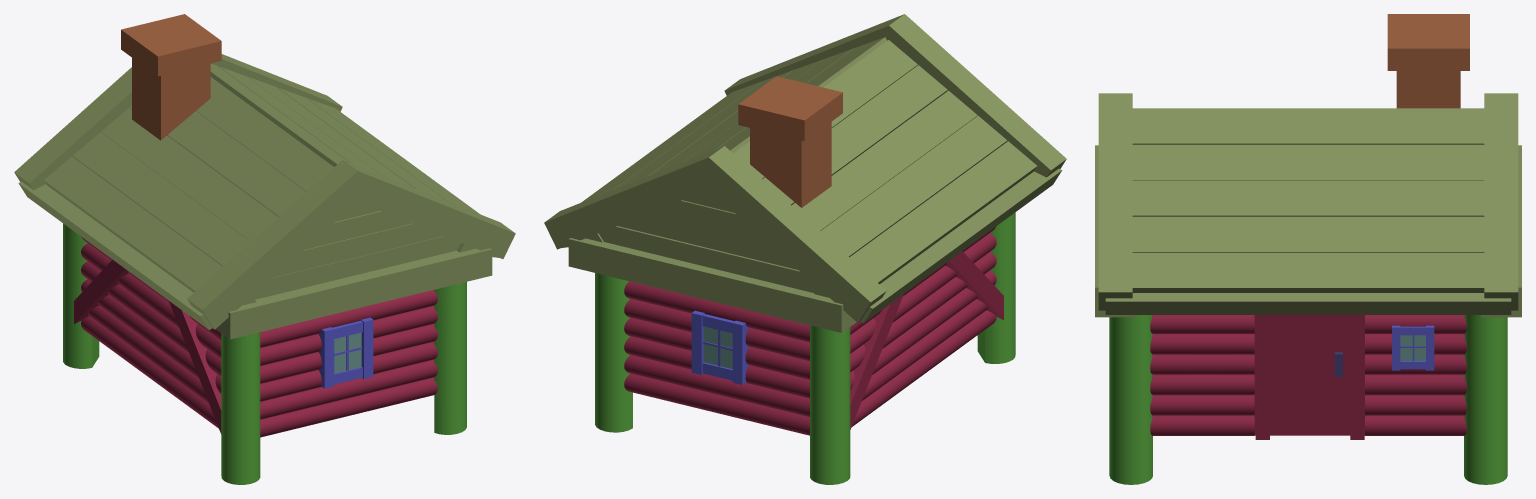
The model's file is LogCabin.fbx.
The picture shows the model from 3 angles, left to right: view 1: azimuth 30°, elevation 25°; view 2: azimuth 150°, elevation 25°; view 3: azimuth 270°, elevation 25°; orthographic projection. The views are drawn at different scales.
Parts seen in each view (by area): view 1: pCube14 (×3), pCube12 (×3), pCube13 (×3), pCube10 (×2), pCube3, pCube2, Chimenea, pCube11 (×2), Columna5, pCube1, pCylinder24 (×2), pCylinder23 (×2) (+14 smaller); view 2: pCube12 (×3), pCube13 (×3), pCube5, pCube14 (×3), Chimenea, pCube10 (×2), pCube4, pCube11 (×2), Columna2, pCube2, pCylinder24 (×2), pCube6 (+14 smaller); view 3: pCube14, pCube10, pCube12, pCube13, pCube11, Base, pCube7, pCube1, pCube6, Chimenea, Columna, Columna6 (+17 smaller).
Boxes of the visible parts, x1=… form: pCube14 (×3): x1=196, y1=77, x2=479, y2=299; pCube12 (×3): x1=101, y1=77, x2=414, y2=249; pCube13 (×3): x1=130, y1=87, x2=447, y2=277; pCube10 (×2): x1=44, y1=63, x2=348, y2=292; pCube3: x1=216, y1=248, x2=492, y2=339; pCube2: x1=187, y1=160, x2=369, y2=329; Chimenea: x1=121, y1=14, x2=221, y2=140; pCube11 (×2): x1=73, y1=66, x2=381, y2=266; Columna5: x1=221, y1=332, x2=260, y2=484; pCube1: x1=343, y1=160, x2=515, y2=258; pCylinder24 (×2): x1=81, y1=316, x2=437, y2=437; pCylinder23 (×2): x1=88, y1=305, x2=437, y2=419; pCube12 (×3): x1=649, y1=59, x2=977, y2=241; pCube13 (×3): x1=616, y1=65, x2=947, y2=269; pCube5: x1=696, y1=146, x2=886, y2=322; pCube14 (×3): x1=581, y1=40, x2=917, y2=293; Chimenea: x1=738, y1=76, x2=842, y2=207; pCube10 (×2): x1=718, y1=37, x2=1037, y2=284; pCube4: x1=568, y1=238, x2=856, y2=332; pCube11 (×2): x1=684, y1=48, x2=1007, y2=257; Columna2: x1=810, y1=325, x2=850, y2=484; pCube2: x1=881, y1=14, x2=1066, y2=177; pCylinder24 (×2): x1=624, y1=310, x2=996, y2=435; pCube6: x1=544, y1=146, x2=723, y2=249; pCube14: x1=1132, y1=252, x2=1484, y2=292; pCube10: x1=1132, y1=108, x2=1484, y2=144; pCube12: x1=1132, y1=180, x2=1484, y2=216; pCube13: x1=1132, y1=216, x2=1484, y2=252; pCube11: x1=1132, y1=144, x2=1484, y2=180; Base: x1=1254, y1=315, x2=1364, y2=435; pCube7: x1=1105, y1=293, x2=1511, y2=314; pCube1: x1=1098, y1=93, x2=1132, y2=310; pCube6: x1=1484, y1=93, x2=1518, y2=310; Chimenea: x1=1387, y1=14, x2=1469, y2=108; Columna: x1=1109, y1=315, x2=1152, y2=484; Columna6: x1=1464, y1=315, x2=1507, y2=484.
Bounding box in the file's own units: 9.08 × 9.1 × 9.6.
